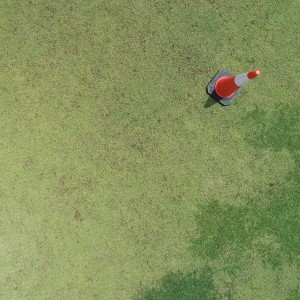traffic cone: (205, 69, 261, 107)
